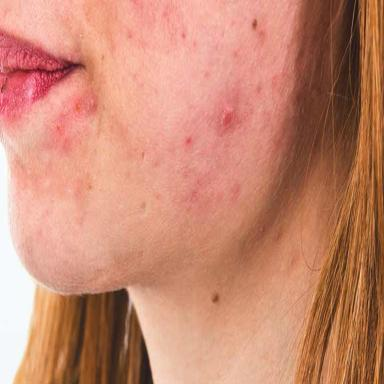acne: (55, 90, 97, 136), (221, 107, 234, 126), (185, 136, 192, 145)
